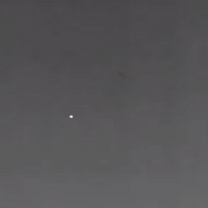Target: (68, 115, 75, 119)
